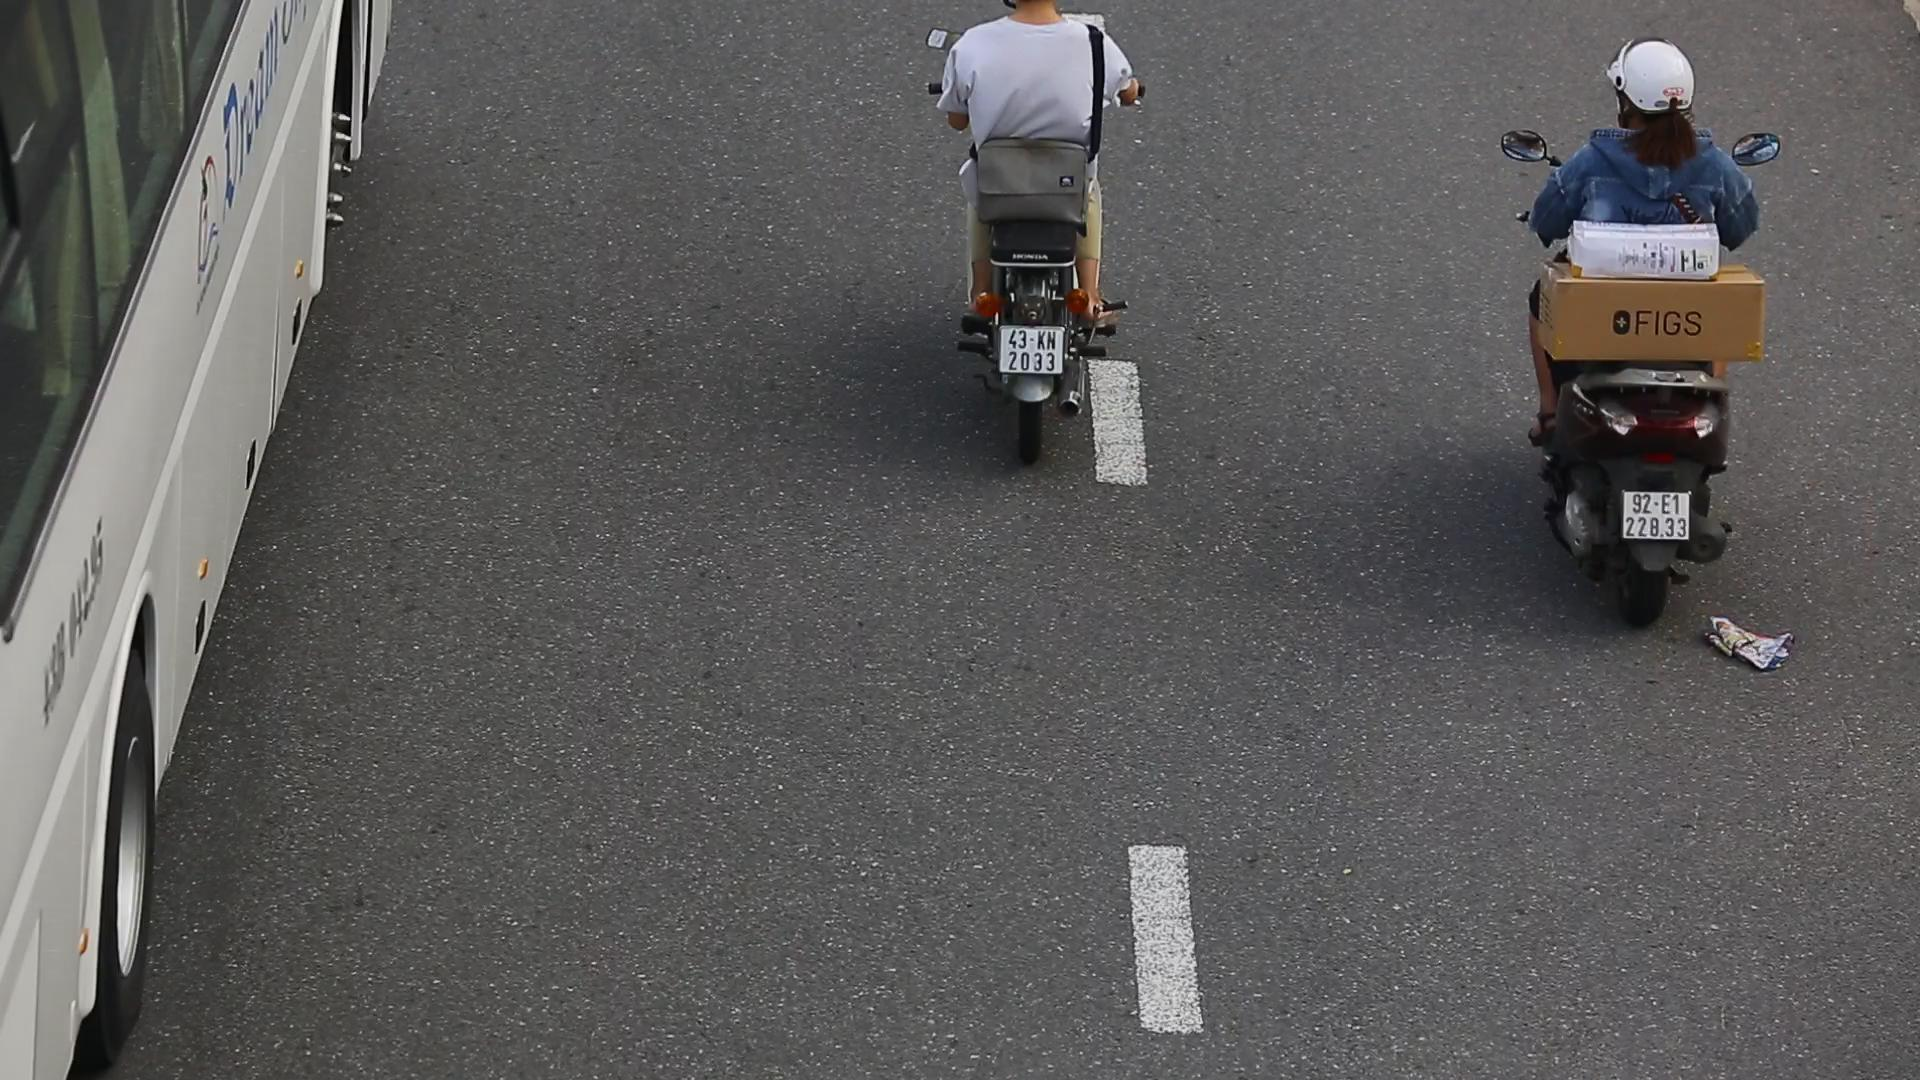motobike: (1498, 30, 1796, 638)
